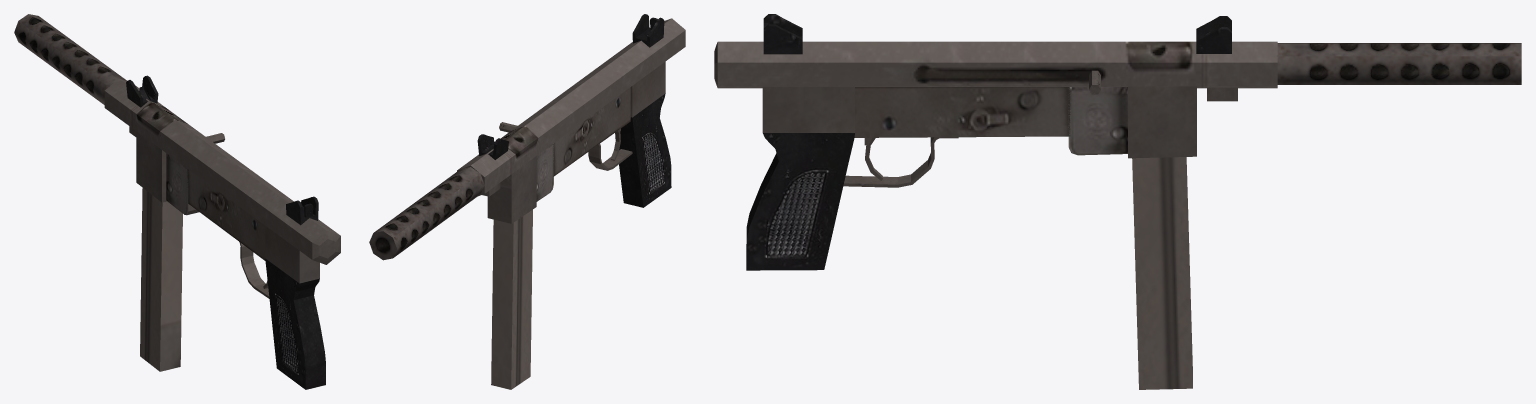
The model's file is SMG.fbx.
3 views of the same model, side by side, from view 1: azimuth 30°, elevation 25°; view 2: azimuth 150°, elevation 25°; view 3: azimuth 270°, elevation 25° (orthographic). The views are drawn at different scales.
Visible parts, largest first — view 1: Cylinder.001, Cube.003, Cube.010, Cylinder.002, Cube, Cube.002, Cube.001, Cube.005, Cube.004, Cube.006; view 2: Cylinder.001, Cube.010, Cube.003, Cylinder.002, Cube, Cube.002, Cube.001, Cube.005, Cube.006, Cube.004; view 3: Cylinder.001, Cube.003, Cube.010, Cube, Cylinder.002, Cube.002, Cube.001, Cube.005, Cube.006, Cube.004.
Boxes of the visible parts, <box> form: Cylinder.001: <box>104,78,340,264</box>; Cube.003: <box>265,226,325,389</box>; Cube.010: <box>140,188,182,371</box>; Cylinder.002: <box>14,14,126,104</box>; Cube: <box>187,169,265,260</box>; Cube.002: <box>136,131,166,202</box>; Cube.001: <box>166,153,199,215</box>; Cube.005: <box>286,196,318,225</box>; Cube.004: <box>239,242,269,298</box>; Cube.006: <box>126,75,158,107</box>; Cylinder.001: <box>457,18,685,196</box>; Cube.010: <box>491,209,532,389</box>; Cube.003: <box>619,61,671,207</box>; Cylinder.002: <box>369,167,484,260</box>; Cube: <box>553,87,630,176</box>; Cube.002: <box>487,156,536,223</box>; Cube.001: <box>536,143,553,201</box>; Cube.005: <box>632,14,664,47</box>; Cube.006: <box>477,134,508,159</box>; Cube.004: <box>588,144,632,170</box>; Cylinder.001: <box>714,41,1277,88</box>; Cube.003: <box>746,86,854,270</box>; Cube.010: <box>1132,157,1192,389</box>; Cube: <box>854,87,1070,137</box>; Cylinder.002: <box>1276,43,1521,84</box>; Cube.002: <box>1128,86,1196,158</box>; Cube.001: <box>1068,87,1127,155</box>; Cube.005: <box>763,14,802,54</box>; Cube.006: <box>1196,16,1231,53</box>; Cube.004: <box>843,137,958,187</box>.
Bounding box in the file's own units: 144 × 733 × 1478.
